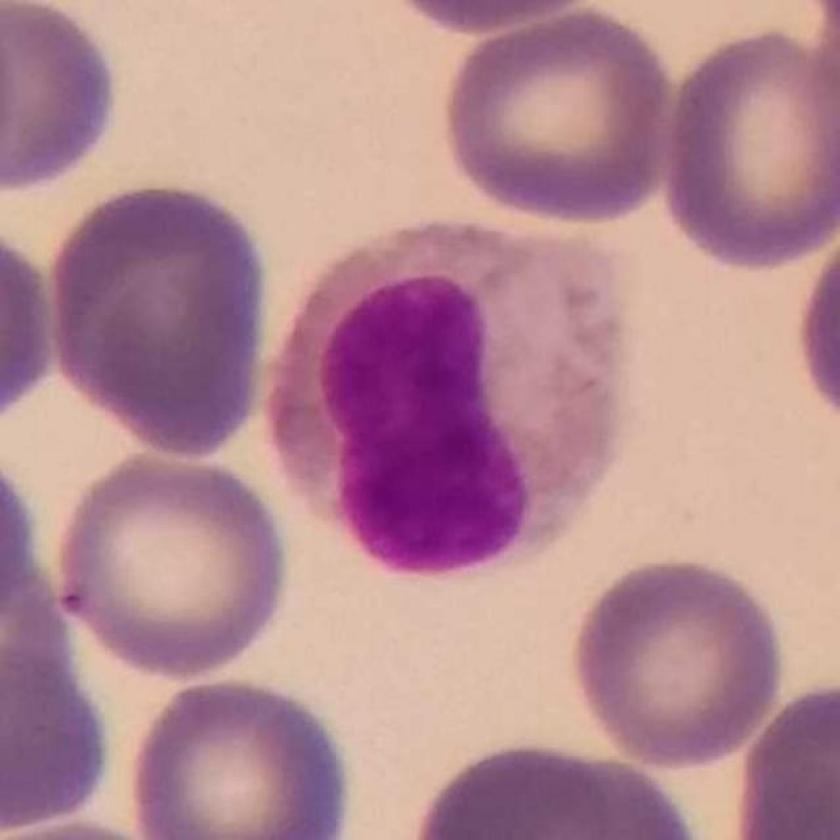eosinophil: (269, 215, 642, 575)
